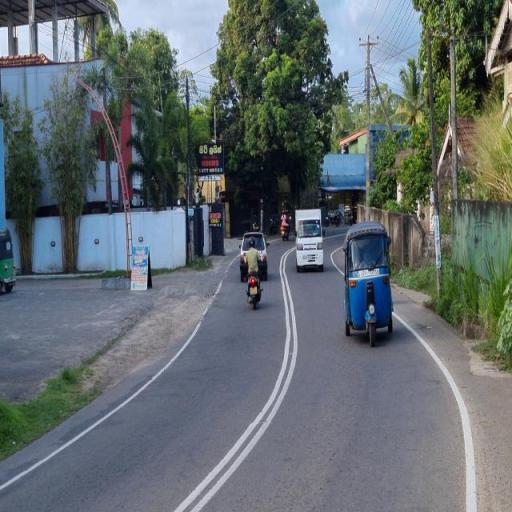double_white_line: (2, 248, 248, 494)
